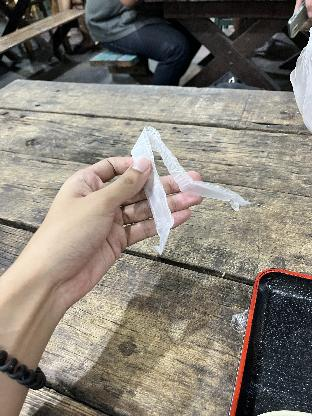Others: (127, 122, 252, 252)
